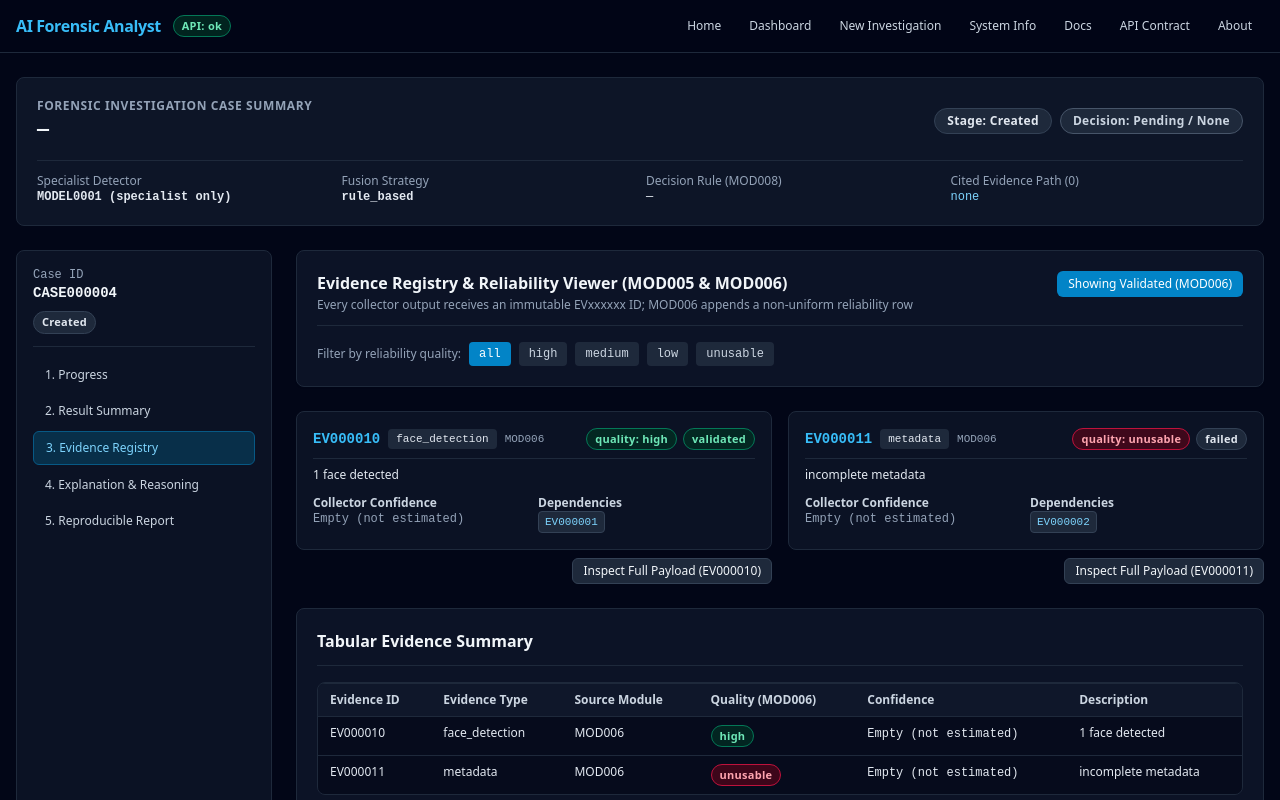
Test case: STEP-067 Frontend Regression & Failure-Case Suite › filters EvidenceViewerPage rows by MOD006 reliability quality and handles Dashboard 404 lookup
The width and height of the screenshot is (1280, 800).
Later steps or results of the test are not shown.
Expected: the heading "EV000010" is shown, [313,429,380,449]
Expected: the heading "EV000011" is shown, [805,429,872,449]
Click the button "unusable": x=735, y=354 [696,342,774,366]
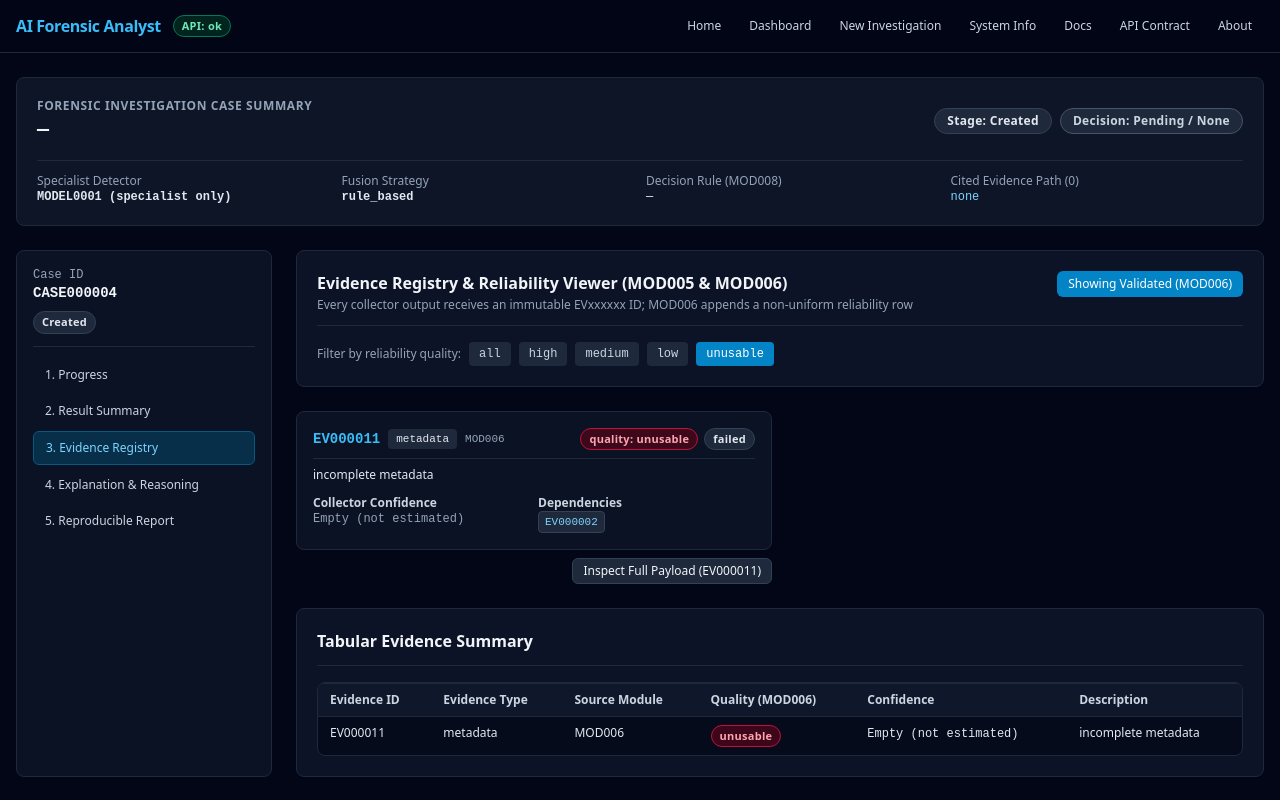
Expected: the heading "EV000011" is shown, [313,429,380,449]
Result: no headings "EV000010" are shown
